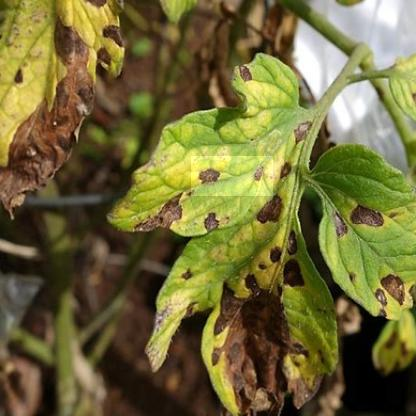black-spot: (333, 191, 416, 266), (191, 156, 273, 196)
